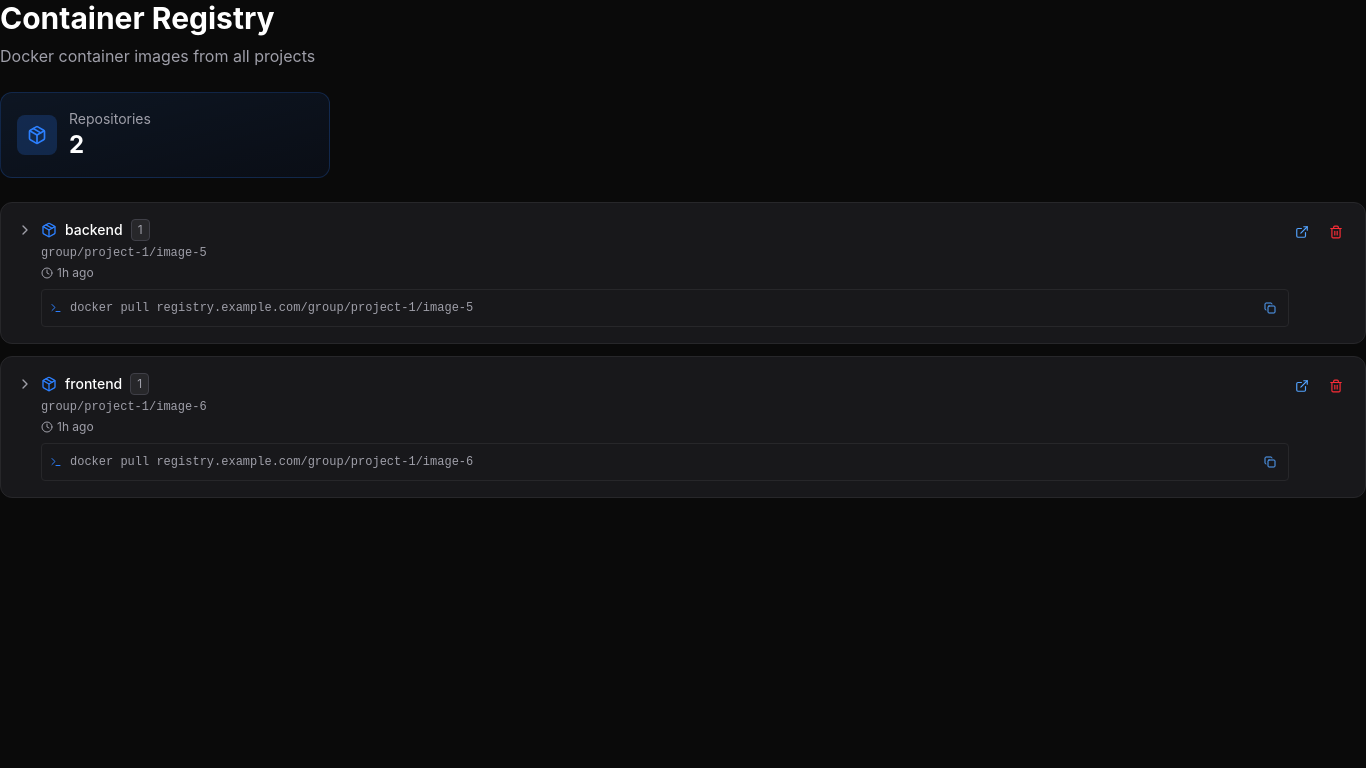
Test: ContainerRegistryTab › deletes a repository after confirmation
Click the button titled "Delete repository" in the row of "backend": point(1336, 232) [1323,219,1349,245]
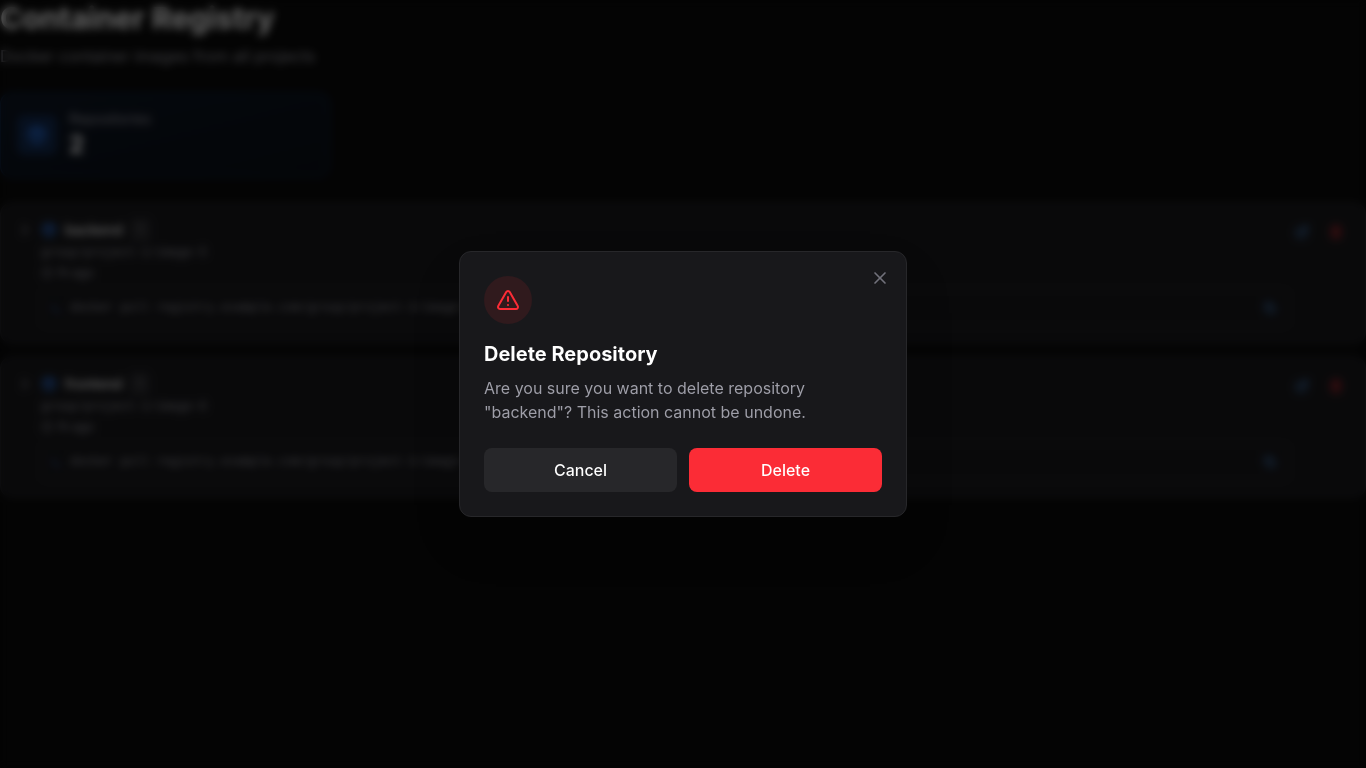
Click the button "Delete": point(786, 470) [689,448,882,492]
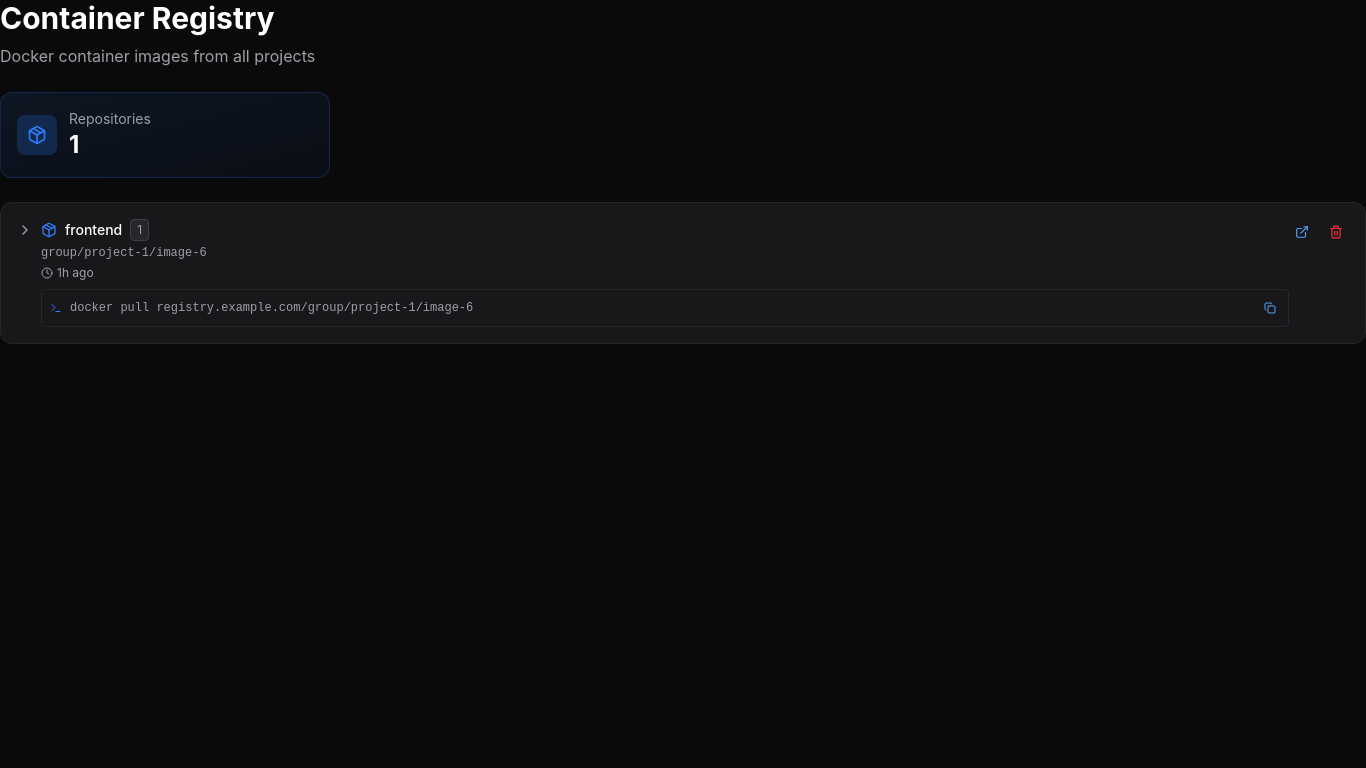
Expected: the heading "frontend" is shown, [65,220,122,240]
Now the heading "backend" is gone
